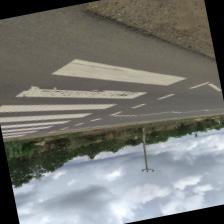crossing: (48, 38, 188, 108), (14, 64, 148, 121), (0, 83, 118, 130), (0, 99, 93, 133), (1, 112, 72, 136)
